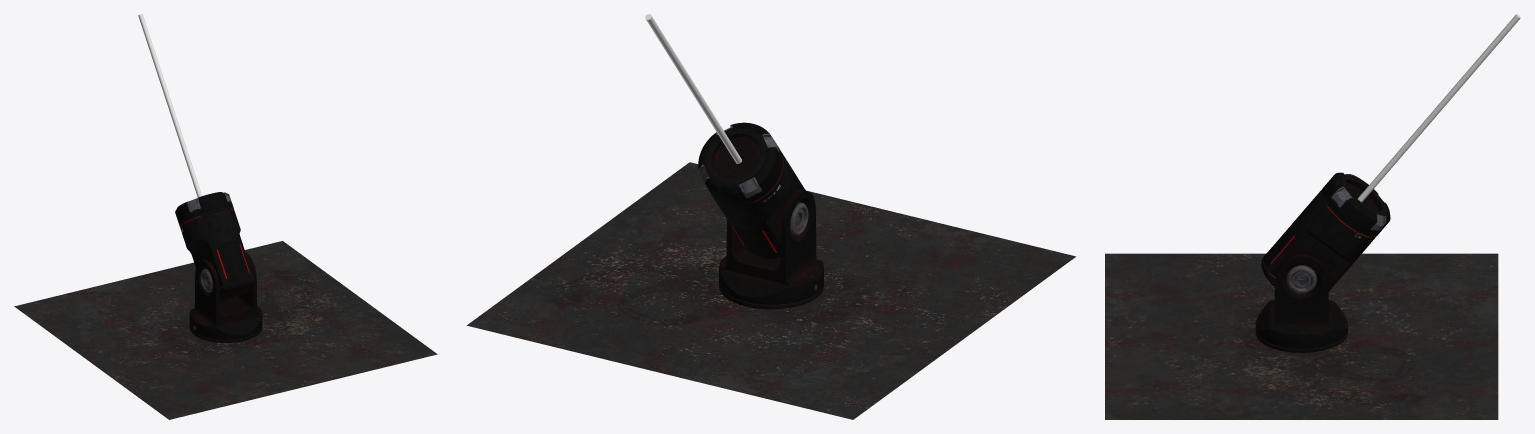
File: light_low.fbx
The picture shows the model from 3 angles, left to right: view 1: azimuth 30°, elevation 25°; view 2: azimuth 150°, elevation 25°; view 3: azimuth 270°, elevation 25°; orthographic projection. The views are drawn at different scales.
Parts seen in each view (by area): view 1: crate_41_floor_low, light_1.001_low.001, light_1.003_low.001, light_1.011_low.001, light_1.012_low.001, light_1.005_low.001, light_1.008_low.001; view 2: crate_41_floor_low, light_1.001_low.001, light_1.003_low.001, light_1.007_low.001, light_1.005_low.001, light_1.011_low.001, light_1.012_low.001, light_1.004_low.001, light_1.010_low.001; view 3: crate_41_floor_low, light_1.001_low.001, light_1.003_low.001, light_1.005_low.001, light_1.011_low.001, light_1.007_low.001, light_1.002_low.001, light_1.012_low.001, light_1.010_low.001, light_1.004_low.001.
Boxes of the visible parts, box(x1,y1,x2,y2) form: crate_41_floor_low: box(14, 241, 437, 419); light_1.001_low.001: box(189, 252, 262, 339); light_1.003_low.001: box(180, 208, 253, 287); light_1.011_low.001: box(138, 14, 201, 197); light_1.012_low.001: box(217, 241, 250, 283); light_1.005_low.001: box(175, 192, 233, 224); light_1.008_low.001: box(219, 279, 254, 301); crate_41_floor_low: box(467, 162, 1075, 419); light_1.001_low.001: box(719, 190, 823, 304); light_1.003_low.001: box(711, 151, 805, 256); light_1.007_low.001: box(705, 128, 765, 183); light_1.005_low.001: box(698, 122, 782, 203); light_1.011_low.001: box(645, 14, 741, 163); light_1.012_low.001: box(730, 222, 777, 257); light_1.004_low.001: box(698, 124, 779, 198); light_1.010_low.001: box(719, 283, 823, 309); crate_41_floor_low: box(1105, 253, 1498, 419); light_1.001_low.001: box(1255, 254, 1347, 348); light_1.003_low.001: box(1266, 190, 1375, 290); light_1.005_low.001: box(1322, 173, 1390, 235); light_1.011_low.001: box(1357, 14, 1520, 202); light_1.007_low.001: box(1342, 175, 1386, 214); light_1.002_low.001: box(1286, 265, 1316, 293); light_1.012_low.001: box(1263, 221, 1348, 291); light_1.010_low.001: box(1255, 330, 1347, 352); light_1.004_low.001: box(1331, 172, 1386, 231).
Size of the model in its own units: 1081 by 977 by 1143.
